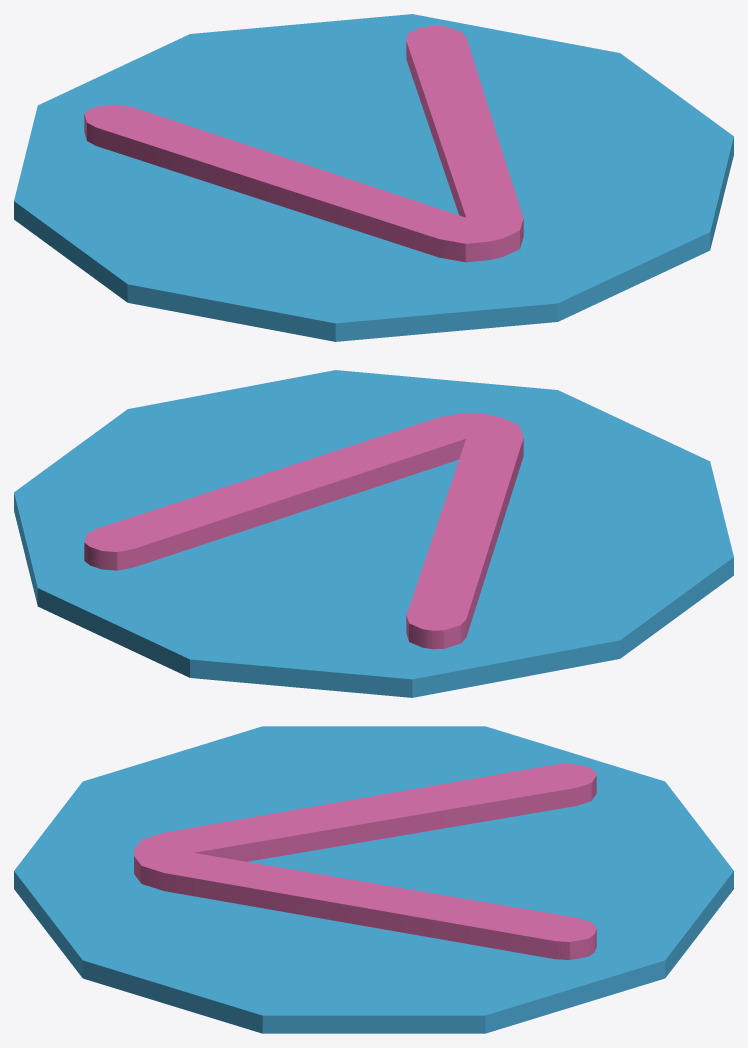
The model's file is pad3.obj.
3 renders of one model, top to bottom at view 1: azimuth 30°, elevation 25°; view 2: azimuth 150°, elevation 25°; view 3: azimuth 270°, elevation 25°, orthographic. The views are drawn at different scales.
Parts seen in each view (by area): view 1: Mesh2 Model, Mesh1 V1 Model; view 2: Mesh2 Model, Mesh1 V1 Model; view 3: Mesh2 Model, Mesh1 V1 Model.
Part boxes in pixels (x1=…): Mesh2 Model: x1=14, y1=14, x2=733, y2=341; Mesh1 V1 Model: x1=84, y1=26, x2=523, y2=262; Mesh2 Model: x1=14, y1=370, x2=733, y2=697; Mesh1 V1 Model: x1=84, y1=412, x2=523, y2=649; Mesh2 Model: x1=14, y1=726, x2=733, y2=1033; Mesh1 V1 Model: x1=134, y1=763, x2=596, y2=959.
Size of the model in its own units: 0.2739 by 0.016 by 0.288.
2 materials, 2 textured.
